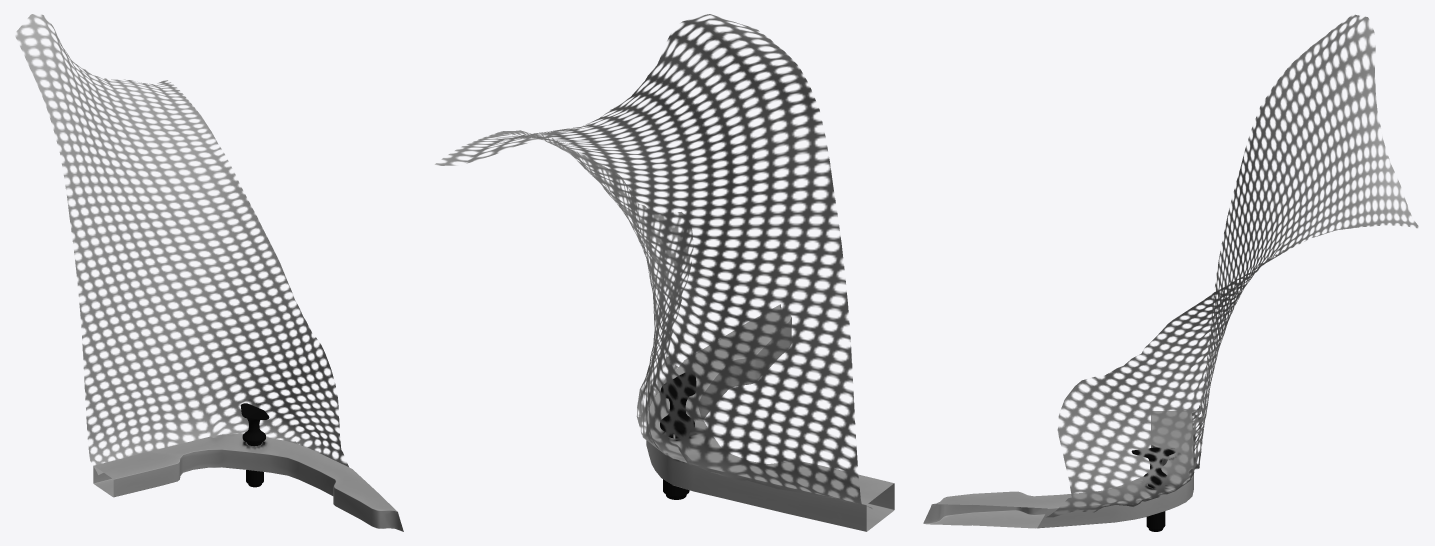
The model's file is right.glb.
The picture shows the model from 3 angles, left to right: view 1: azimuth 30°, elevation 25°; view 2: azimuth 150°, elevation 25°; view 3: azimuth 270°, elevation 25°; orthographic projection. The views are drawn at different scales.
Parts seen in each view (by area): view 1: mesh-0; view 2: mesh-0; view 3: mesh-0.
Part boxes in pixels (x1,y1,x2,y2): mesh-0: (15,14,403,531); mesh-0: (435,14,894,531); mesh-0: (923,14,1418,531).
Bounding box in the file's own units: 15.04 × 31.46 × 31.62.
Materials: 1 (1 with a texture image).
